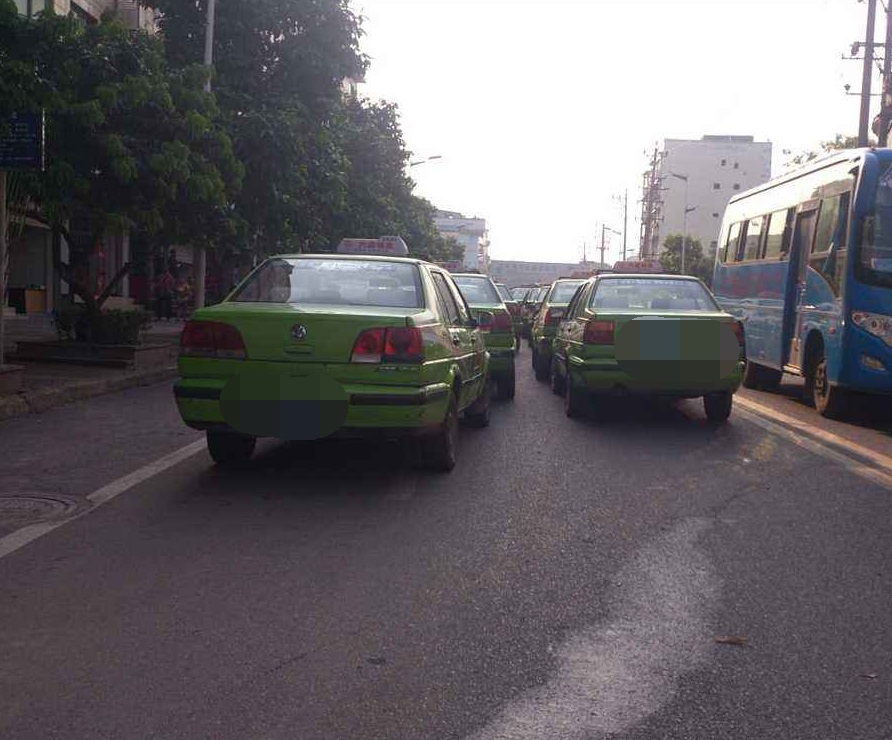taxi: (172, 233, 500, 484)
